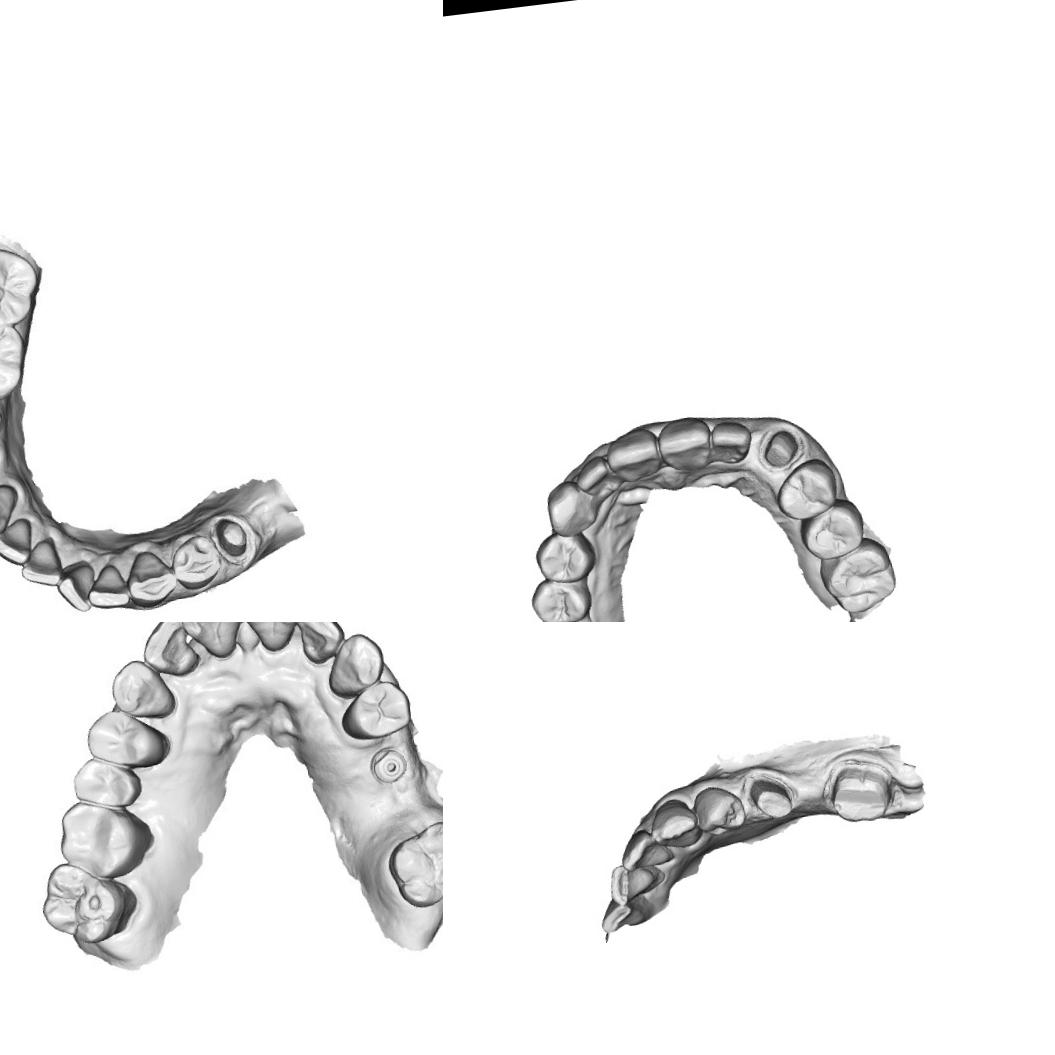canine: (321, 630, 386, 704), (110, 656, 176, 728), (542, 476, 600, 539), (121, 548, 178, 611), (645, 795, 704, 852), (0, 483, 20, 538)
crown: (818, 752, 898, 827), (740, 766, 797, 824), (754, 422, 807, 474)
implant: (367, 740, 413, 792)
incisor: (602, 426, 665, 486), (656, 414, 713, 475), (603, 858, 668, 907), (141, 622, 198, 676), (617, 825, 676, 874), (82, 561, 133, 615), (51, 560, 100, 616), (182, 622, 250, 661), (15, 541, 64, 593), (708, 417, 756, 467), (237, 622, 309, 655), (572, 452, 621, 500), (598, 894, 650, 934), (0, 517, 34, 571), (293, 622, 343, 656)
molar: (34, 855, 140, 950), (49, 790, 156, 881), (814, 532, 900, 618), (381, 814, 443, 914), (796, 494, 868, 562), (0, 245, 38, 328), (0, 315, 21, 397)
premolar: (338, 678, 416, 742), (771, 456, 841, 524), (86, 708, 164, 769), (69, 753, 141, 811), (532, 526, 599, 586), (169, 528, 225, 590), (527, 572, 595, 622), (690, 782, 747, 838)
